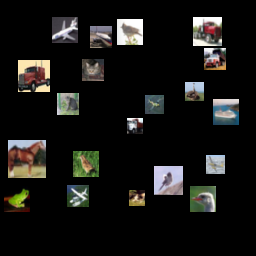airplane: (44, 210, 82, 248), (182, 31, 211, 60)
automobile: (52, 77, 81, 106), (214, 121, 243, 150), (151, 30, 180, 59), (6, 158, 32, 184)
bird: (26, 14, 52, 40), (100, 213, 122, 235)
cat: (90, 11, 116, 37)
deer: (119, 133, 154, 168), (86, 178, 102, 194)
dog: (61, 119, 93, 151), (168, 73, 197, 102)
frog: (125, 183, 144, 202)
ship: (213, 73, 251, 111), (161, 114, 190, 143), (70, 155, 92, 177)
